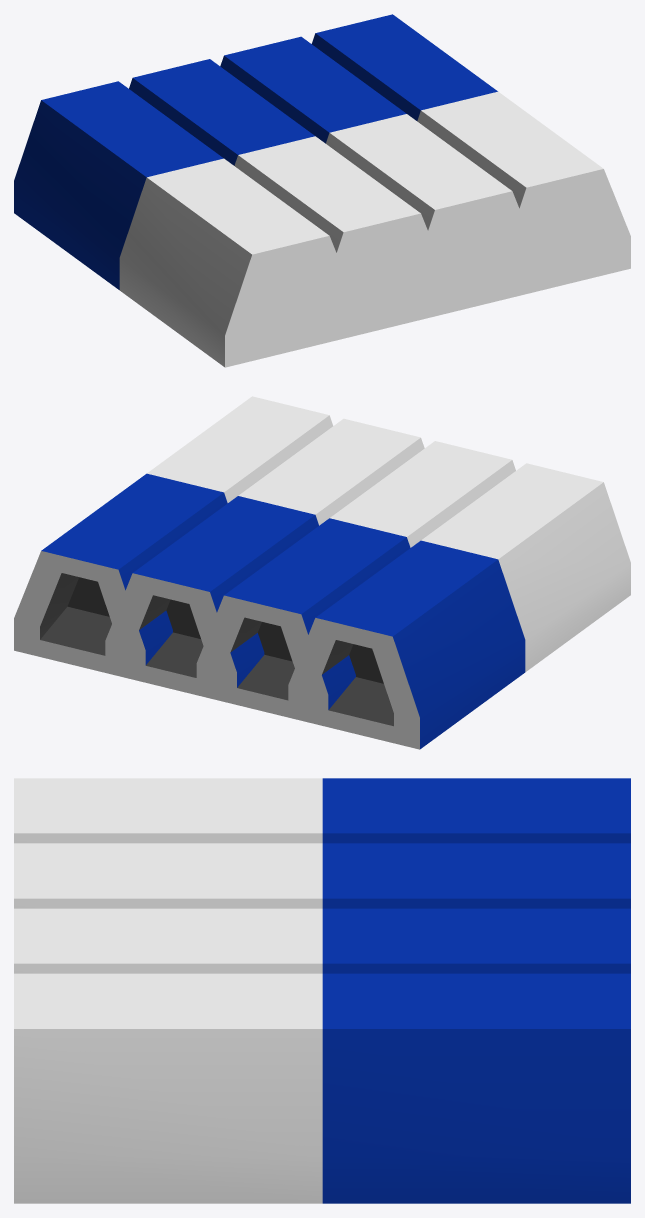
The model's file is friendlyRangedUnitTop.obj.
3 views of the same model, one above another, from view 1: azimuth 30°, elevation 25°; view 2: azimuth 150°, elevation 25°; view 3: azimuth 270°, elevation 25° (orthographic). The views are drawn at different scales.
Bounding box in the file's own units: 0.888 × 0.2225 × 0.8.
